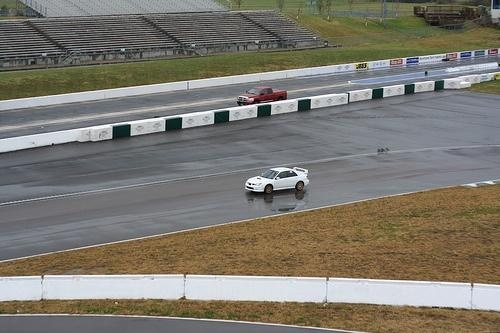car: (246, 167, 310, 196), (238, 86, 289, 107)
